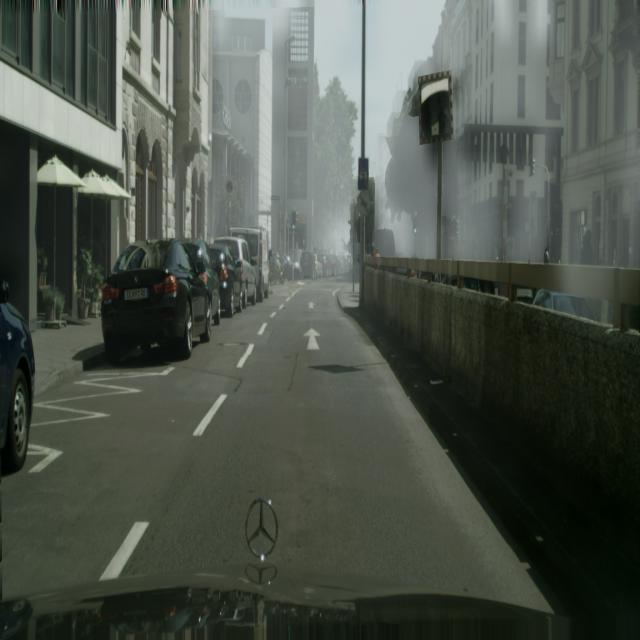car: (269, 254, 284, 286)
truck: (100, 237, 212, 364), (0, 284, 36, 474), (182, 238, 222, 326), (214, 235, 258, 311), (232, 226, 270, 301), (208, 242, 243, 318), (532, 288, 599, 322), (300, 251, 316, 279), (283, 258, 302, 281)
